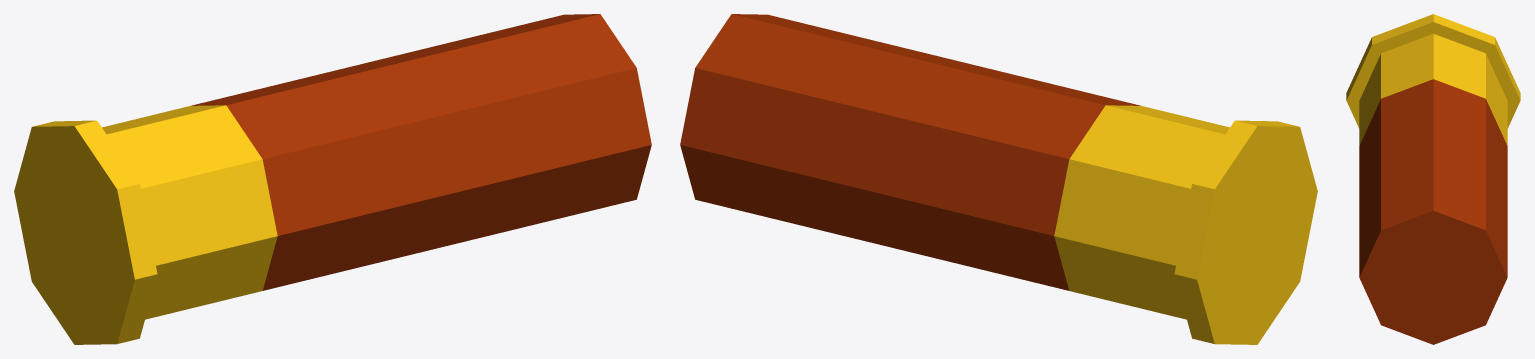
Rendered from ShotgunShell.glb.
3 renders of one model, left to right at view 1: azimuth 30°, elevation 25°; view 2: azimuth 150°, elevation 25°; view 3: azimuth 270°, elevation 25°, orthographic. The views are drawn at different scales.
Parts seen in each view (by area): view 1: ShotgunShell; view 2: ShotgunShell; view 3: ShotgunShell.
Part boxes in pixels (box(x1,y1,x2,y2)): ShotgunShell: box(14, 14, 651, 344); ShotgunShell: box(680, 14, 1317, 344); ShotgunShell: box(1346, 14, 1520, 344).
Size of the model in its own units: 0.4088 by 0.1626 by 0.1626.
Materials: 1 (1 with a texture image).
